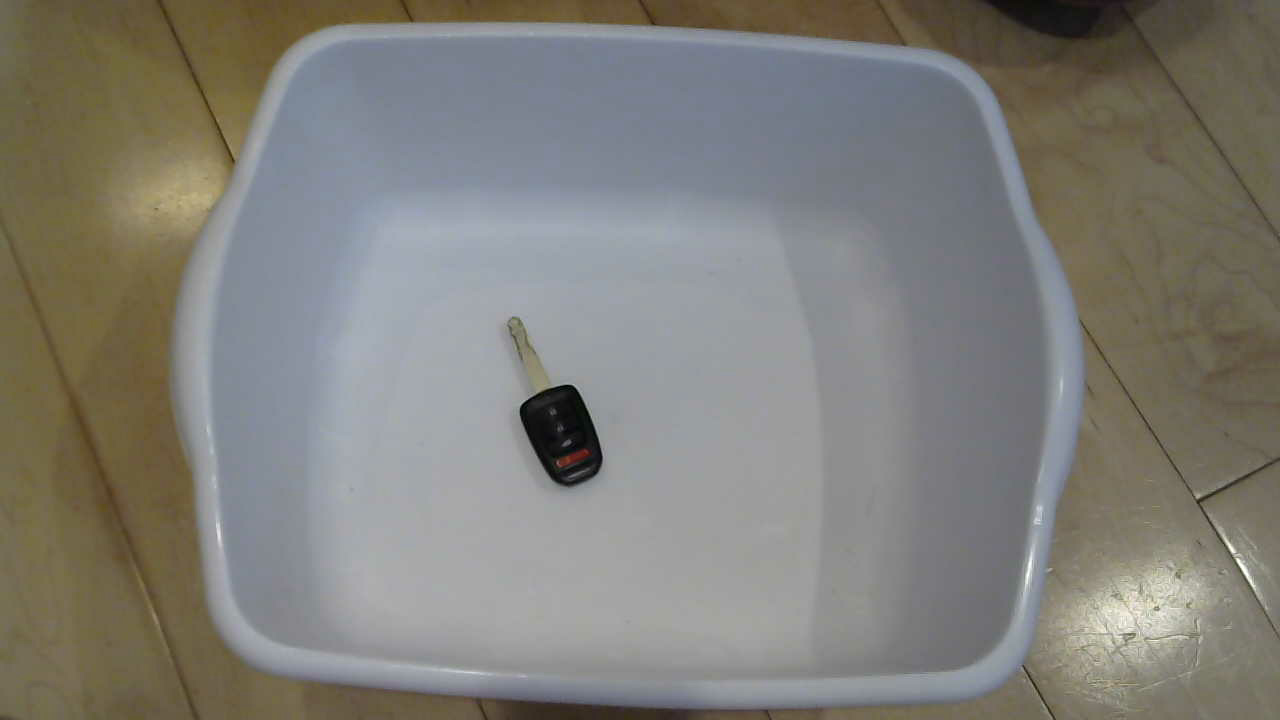key: (471, 307, 625, 499)
